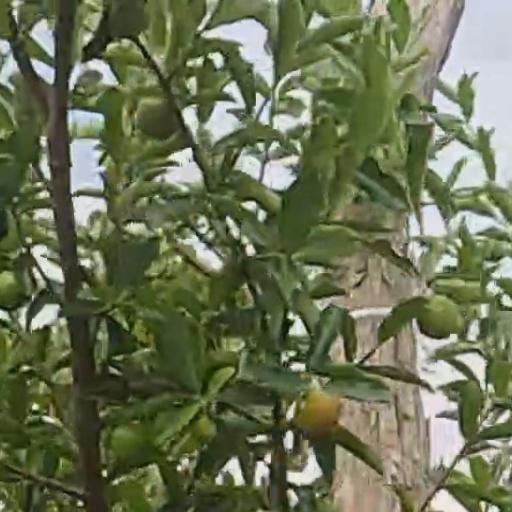acerola_verde: (421, 295, 460, 337)
acerola_vermelha: (296, 391, 342, 433)
